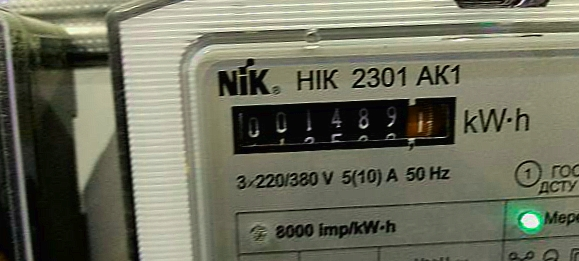0: (270, 105, 288, 130), (243, 110, 260, 136)
1: (299, 102, 315, 132), (411, 101, 425, 132)
4: (326, 101, 344, 128)
8: (352, 100, 371, 128)
9: (381, 100, 398, 126)
screen: (213, 78, 473, 169)
